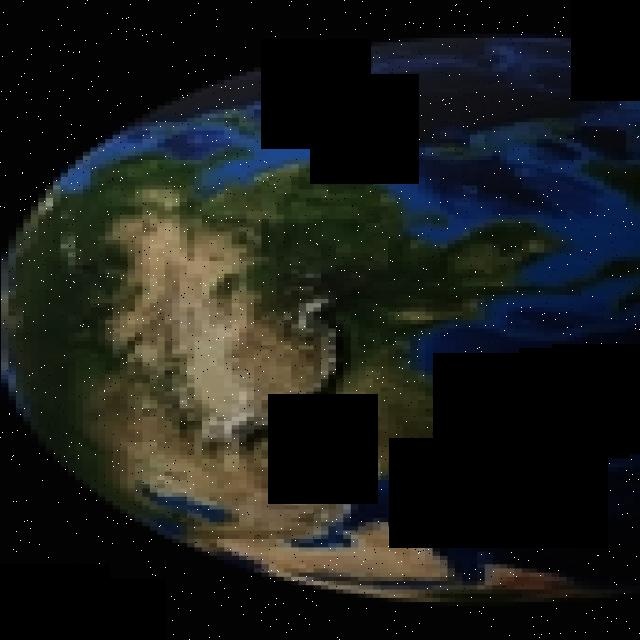Earth: (0, 34, 640, 602)
